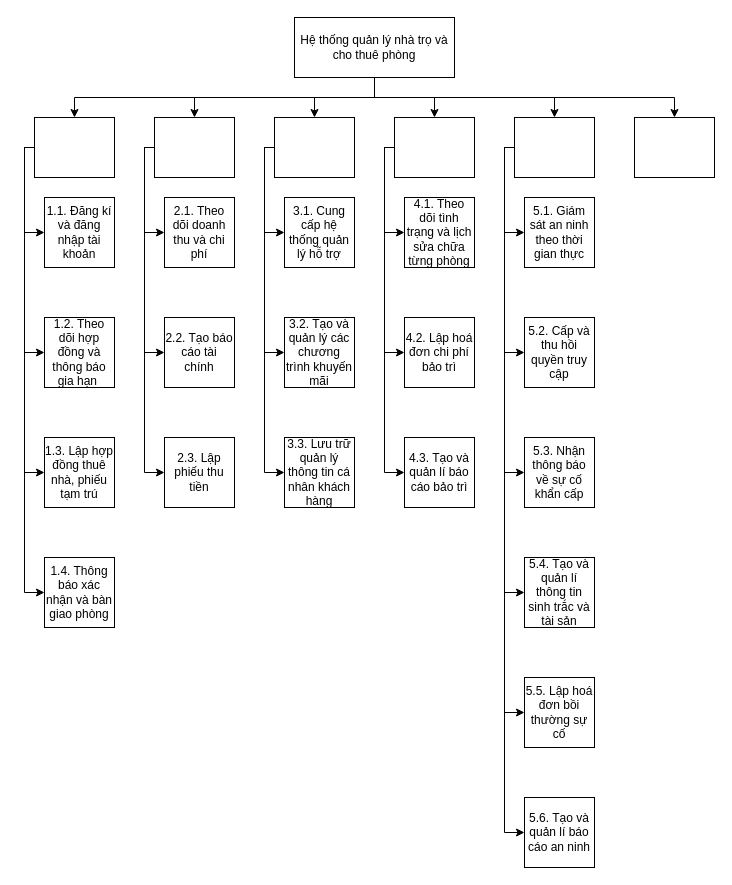
Image size: 732x885. Some labels were removed from this diagram. Here are the shapes that lost their labels. From the top down, the centre of each, then its label:
point (74, 147): 1. Quản lí thuê nhà
point (194, 147): 2. Quản lý tài chính
point (314, 147): 3. Quản lý khách hàng
point (434, 147): 4. Quản lý tài sản
point (554, 147): 5. Bảo vệ an ninh
point (674, 147): 6. Báo cáo
